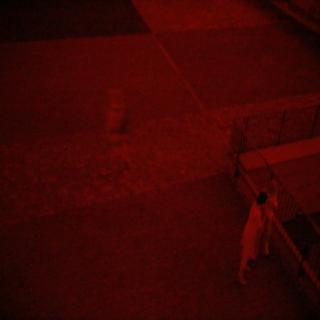person: (234, 189, 274, 293)
